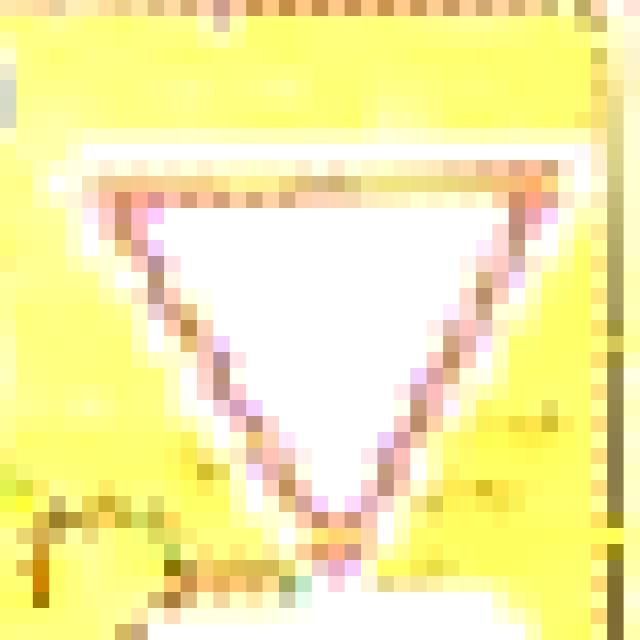Give Way: (83, 97, 559, 561)
